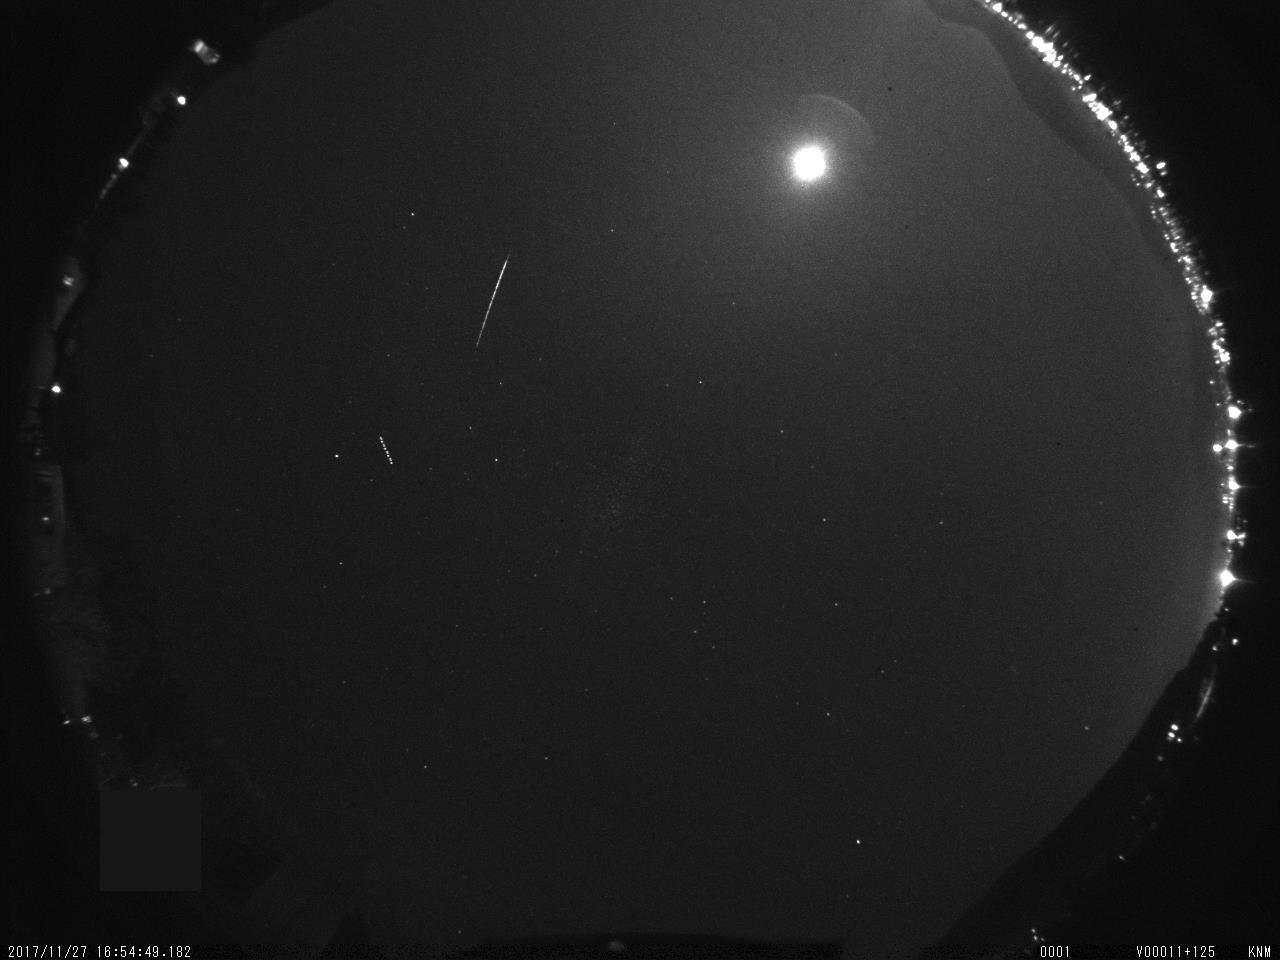meteor: (468, 243, 525, 359)
satelite: (374, 429, 400, 480)
